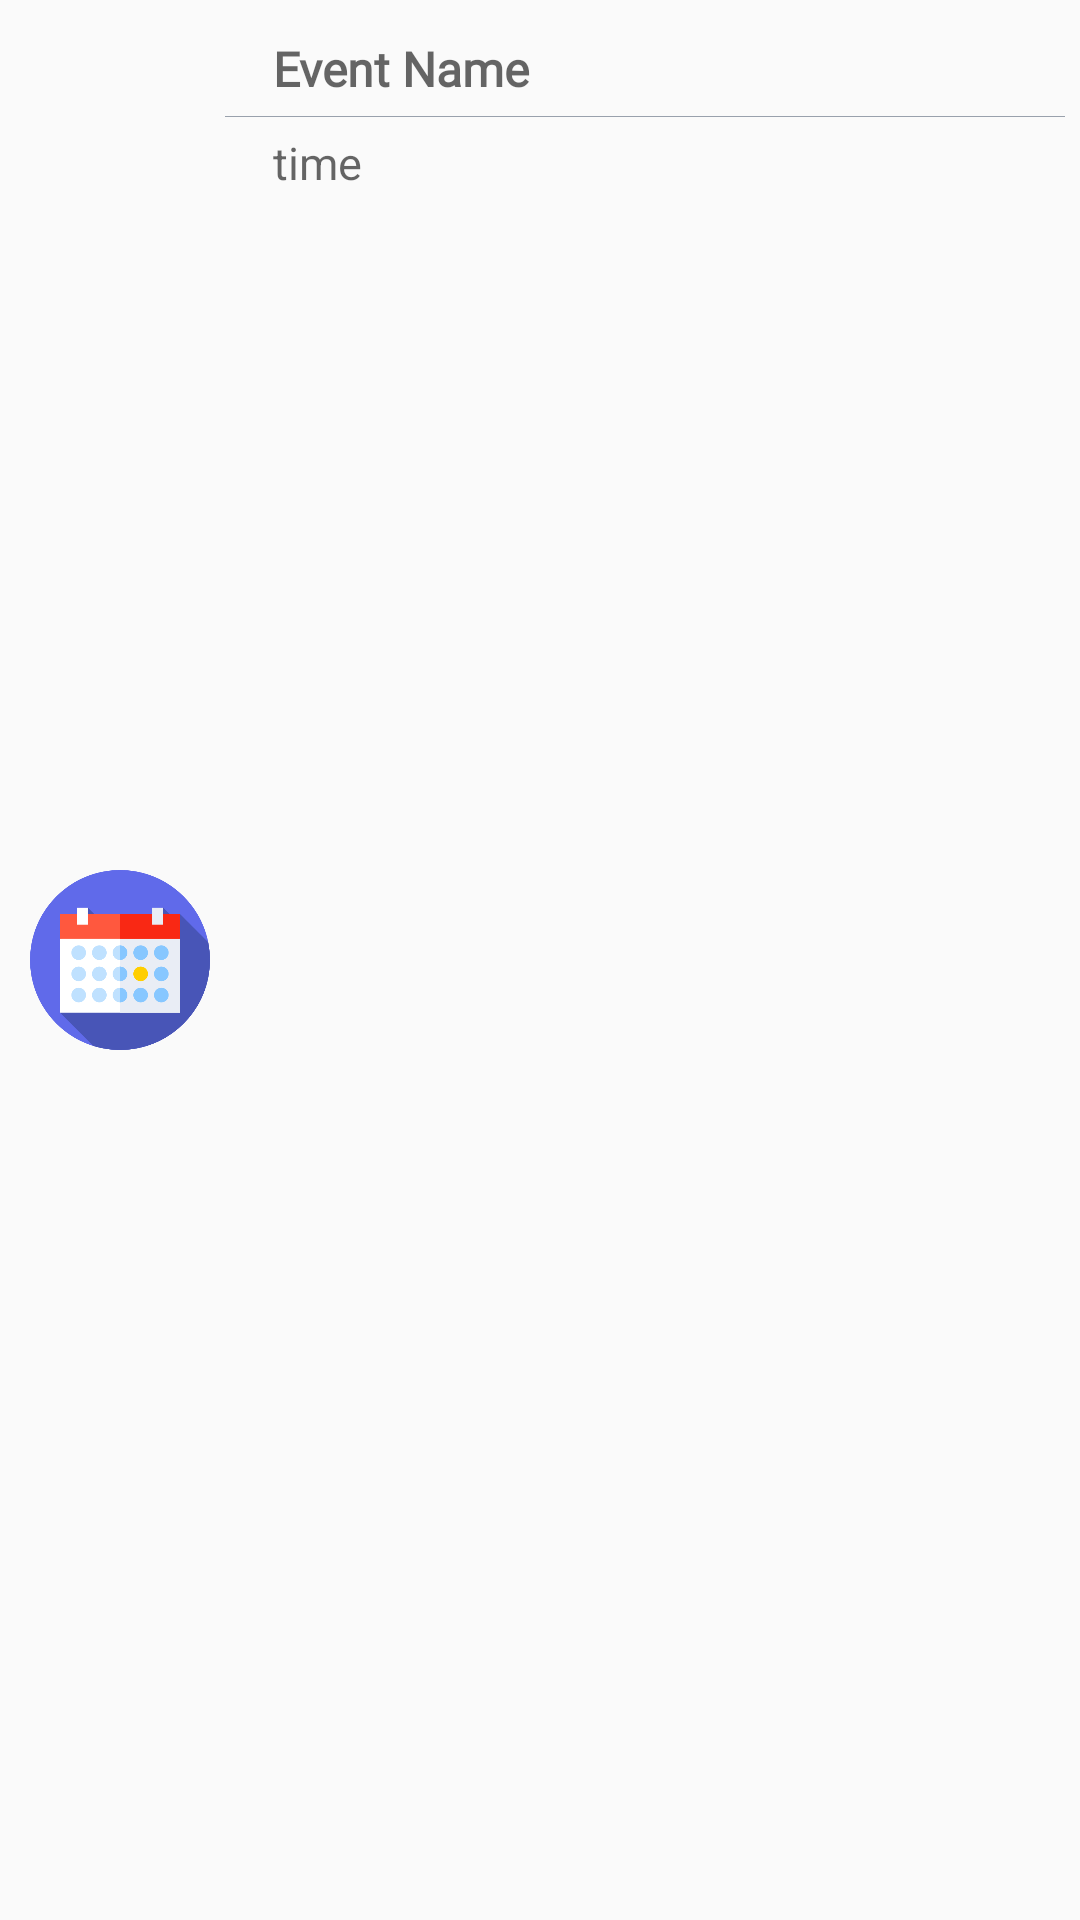

Icons on this 1080×1920 Android screen, each with the point to tap as (x=x, y=y):
events: (x=120, y=960)
